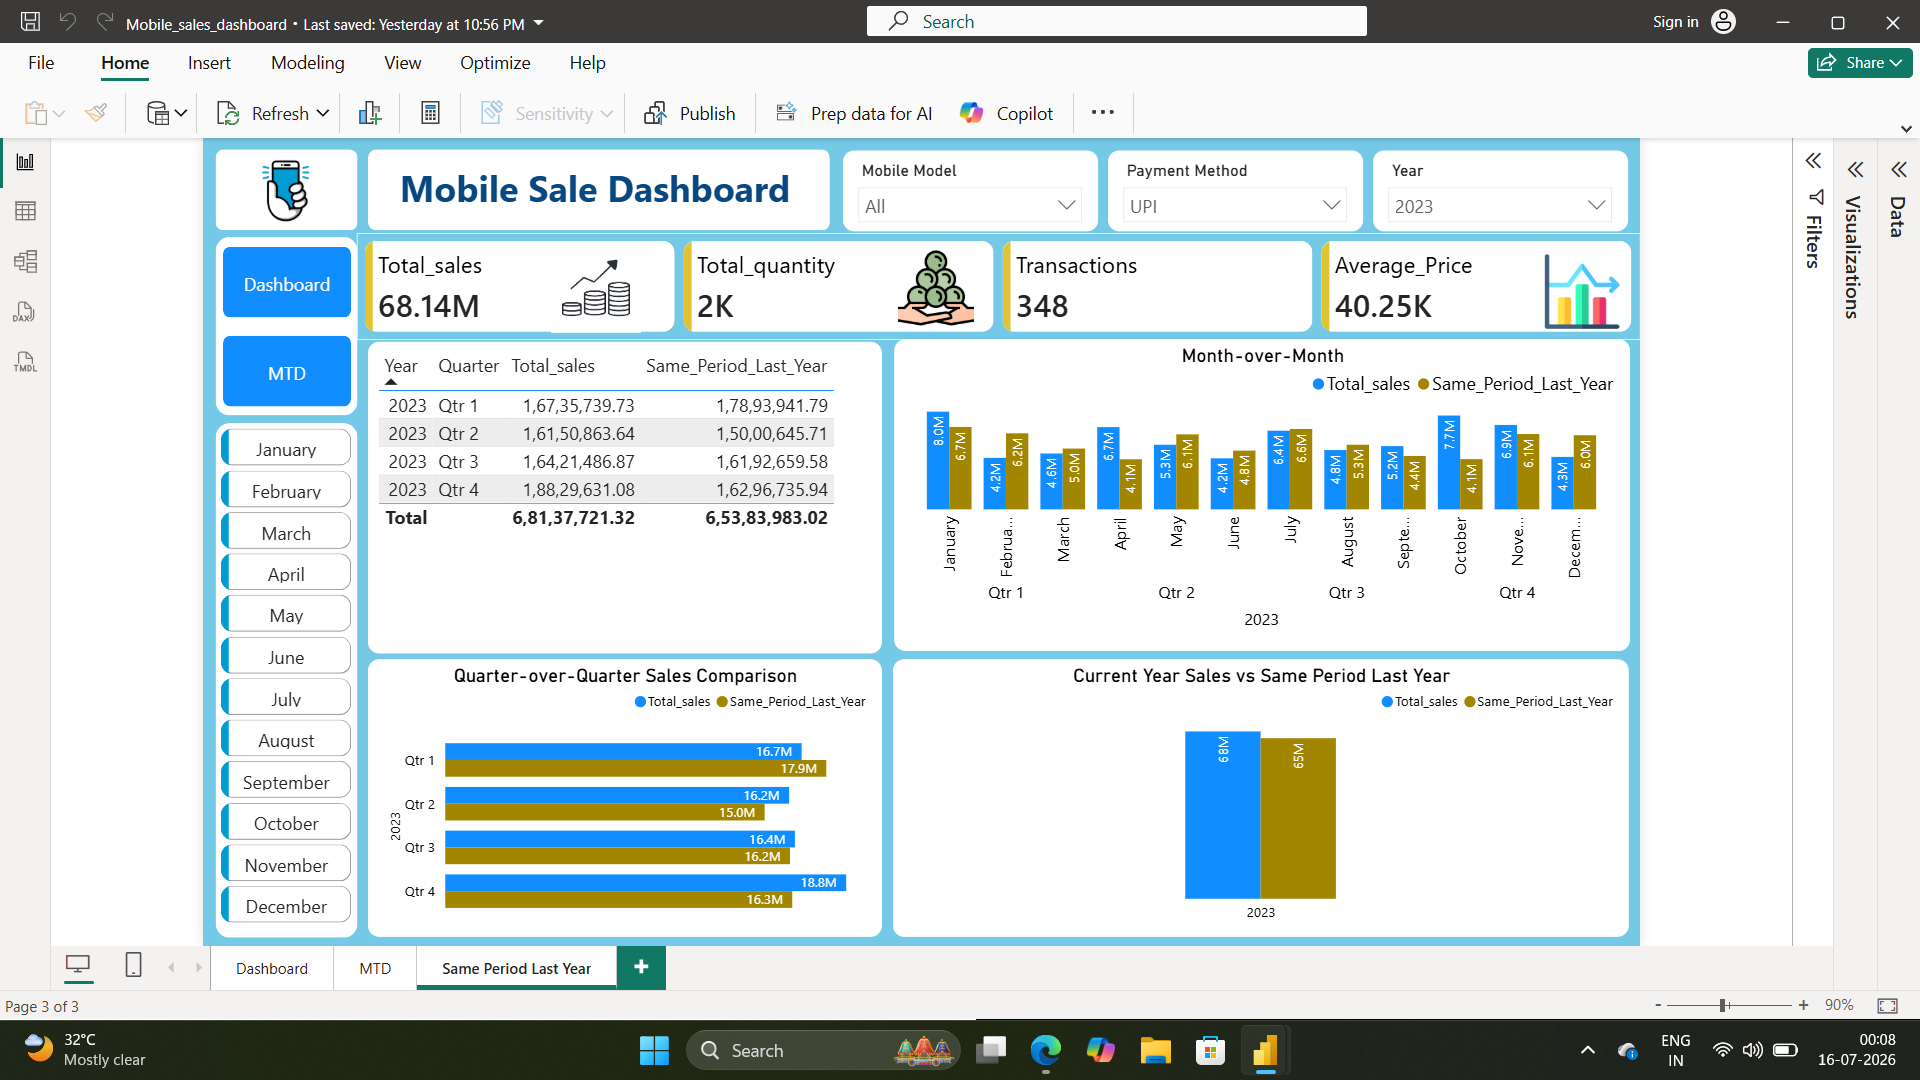

The dashboard page shown, as its layout file describes it:
{"tool":"powerbi","page":{"name":"Same Period Last Year","canvas":[1280,720],"ordinal":2},"visuals":[{"type":"shape","box":[10.9,9.7,126.7,72.4],"z":0,"group":"g1"},{"type":"shape","box":[10.9,88.1,126.7,159.3],"z":0},{"type":"image","box":[909.6,101.6,84.5,67.6],"z":0,"group":"g2"},{"type":"group","id":"g1","title":"Group 1","box":[10.9,9.7,126.7,72.4],"z":1000},{"type":"image","box":[33.8,10.9,78.4,71.2],"z":1000,"group":"g1"},{"type":"cardVisual","fields":{"Data":["Sales_data.Total_sales","Sales_data.Total_quantity","Sales_data.Transactions","Sales_data.Average_Price"]},"box":[137.1,84.3,1142.9,95.7],"z":1000,"group":"g2"},{"type":"slicer","fields":{"Values":["Sales_data.Mobile Model"]},"box":[569.4,10.9,226.8,72.4],"z":2000},{"type":"image","box":[585.7,97.2,134.3,71.4],"z":2000,"group":"g2"},{"type":"shape","box":[147.2,9.7,411.4,72.4],"z":3000},{"type":"image","box":[1188.3,102.8,80.8,66.4],"z":3000,"group":"g2"},{"type":"slicer","fields":{"Values":["Sales_data.Payment Method"]},"box":[805.9,10.9,226.8,72.4],"z":4000},{"type":"image","box":[277.1,92.9,145.7,80],"z":4000,"group":"g2"},{"type":"slicer","fields":{"Values":["custom_calender.Date.Variation.Date Hierarchy.Year"]},"box":[1042.4,10.9,226.8,72.4],"z":5000},{"type":"textbox","box":[170,17.5,365,61.2],"z":6000},{"type":"group","id":"g2","title":"Group 2","box":[137.1,84.3,1142.9,95.7],"z":7000},{"type":"tableEx","fields":{"Values":["custom_calender.Date.Variation.Date Hierarchy.Year","custom_calender.Date.Variation.Date Hierarchy.Quarter","Sales_data.Total_sales","Sales_data.Same_Period_Last_Year"]},"box":[147.2,181,457.2,277.5],"z":8000},{"type":"clusteredColumnChart","title":"Current Year Sales vs Same Period Last Year","fields":{"Category":["custom_calender.Date.Variation.Date Hierarchy.Year","custom_calender.Date.Variation.Date Hierarchy.Quarter","custom_calender.Date.Variation.Date Hierarchy.Month","custom_calender.Date.Variation.Date Hierarchy.Day"],"Y":["Sales_data.Total_sales","Sales_data.Same_Period_Last_Year"]},"box":[614.1,464.5,655.1,247.3],"z":9000},{"type":"clusteredBarChart","title":"Quarter-over-Quarter Sales Comparison","fields":{"Category":["custom_calender.Date.Variation.Date Hierarchy.Year","custom_calender.Date.Variation.Date Hierarchy.Quarter","custom_calender.Date.Variation.Date Hierarchy.Month","custom_calender.Date.Variation.Date Hierarchy.Day"],"Y":["Sales_data.Total_sales","Sales_data.Same_Period_Last_Year"]},"box":[147.2,464.5,457.2,247.3],"z":10000},{"type":"shape","box":[10.9,253.4,126.7,458.4],"z":10500},{"type":"clusteredColumnChart","title":"Month-over-Month","fields":{"Category":["custom_calender.Date.Variation.Date Hierarchy.Year","custom_calender.Date.Variation.Date Hierarchy.Quarter","custom_calender.Date.Variation.Date Hierarchy.Month","custom_calender.Date.Variation.Date Hierarchy.Day"],"Y":["Sales_data.Total_sales","Sales_data.Same_Period_Last_Year"]},"box":[615.3,179.8,655.1,277.5],"z":11000},{"type":"advancedSlicerVisual","fields":{"Values":["custom_calender.Date.Variation.Date Hierarchy.Month"]},"box":[10.9,253.4,126.7,451.2],"z":13000},{"type":"pageNavigator","box":[18.1,96.5,114.6,142.4],"z":13001}]}

Visuals, with their boxes on the page's 1280x720 design canvas (x1, y1, x2, y2). These are canvas units, not pixel positions in the 1920x1080 screenshot, which may show the page scaled, cropped or inside an application window:
shape: [11, 10, 138, 82]
shape: [11, 88, 138, 247]
image: [910, 102, 994, 169]
"Group 1" group: [11, 10, 138, 82]
image: [34, 11, 112, 82]
cardVisual - Sales_data.Total_sales x Sales_data.Total_quantity: [137, 84, 1280, 180]
slicer - Sales_data.Mobile Model: [569, 11, 796, 83]
image: [586, 97, 720, 169]
shape: [147, 10, 559, 82]
image: [1188, 103, 1269, 169]
slicer - Sales_data.Payment Method: [806, 11, 1033, 83]
image: [277, 93, 423, 173]
slicer - custom_calender.Date.Variation.Date Hierarchy.Year: [1042, 11, 1269, 83]
textbox: [170, 18, 535, 79]
"Group 2" group: [137, 84, 1280, 180]
tableEx - custom_calender.Date.Variation.Date Hierarchy.Year x custom_calender.Date.Variation.Date Hierarchy.Quarter: [147, 181, 604, 458]
"Current Year Sales vs Same Period Last Year" clusteredColumnChart: [614, 464, 1269, 712]
"Quarter-over-Quarter Sales Comparison" clusteredBarChart: [147, 464, 604, 712]
shape: [11, 253, 138, 712]
"Month-over-Month" clusteredColumnChart: [615, 180, 1270, 457]
advancedSlicerVisual - custom_calender.Date.Variation.Date Hierarchy.Month: [11, 253, 138, 705]
pageNavigator: [18, 96, 133, 239]
